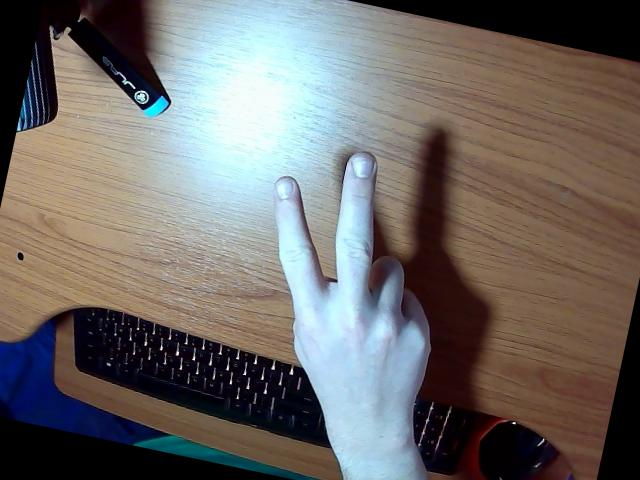scissors: (274, 152, 430, 480)
